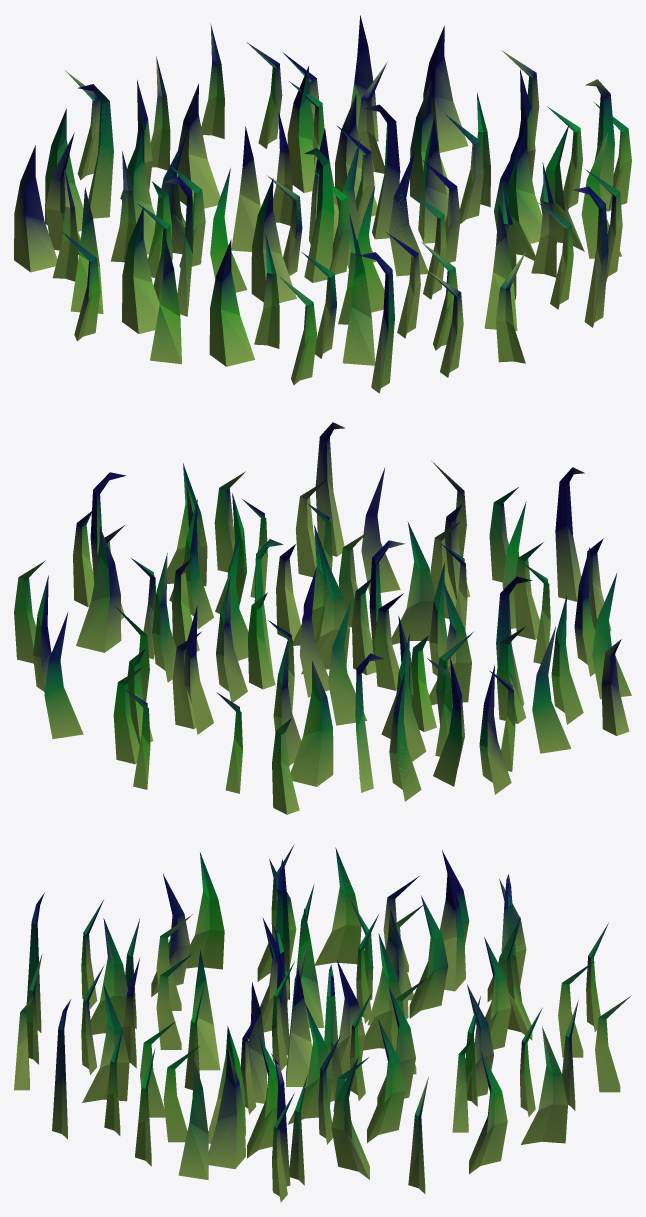
Rendered from grass.fbx.
3 views of the same model, one above another, from view 1: azimuth 30°, elevation 25°; view 2: azimuth 150°, elevation 25°; view 3: azimuth 270°, elevation 25° (orthographic). The views are drawn at different scales.
Parts seen in each view (by area): view 1: node_id101.001; view 2: node_id101.001; view 3: node_id101.001.
Part boxes in pixels (x1,y1,x2,y2): node_id101.001: (14, 15, 631, 393); node_id101.001: (14, 422, 631, 814); node_id101.001: (14, 844, 630, 1202).
Size of the model in its own units: 512 by 117 by 509.
